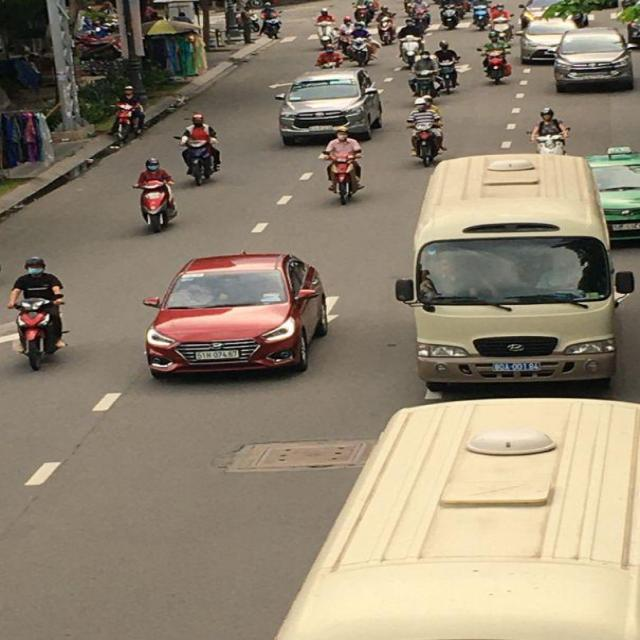bus: (397, 154, 628, 395)
car: (146, 252, 332, 378), (272, 74, 386, 149), (553, 27, 636, 94), (588, 156, 640, 249), (521, 17, 580, 62)
motorcycle: (14, 293, 66, 369), (135, 176, 177, 232), (325, 155, 364, 207), (179, 138, 219, 186), (409, 123, 445, 169), (114, 101, 146, 148), (434, 47, 462, 95), (485, 51, 513, 82), (399, 37, 422, 69)
